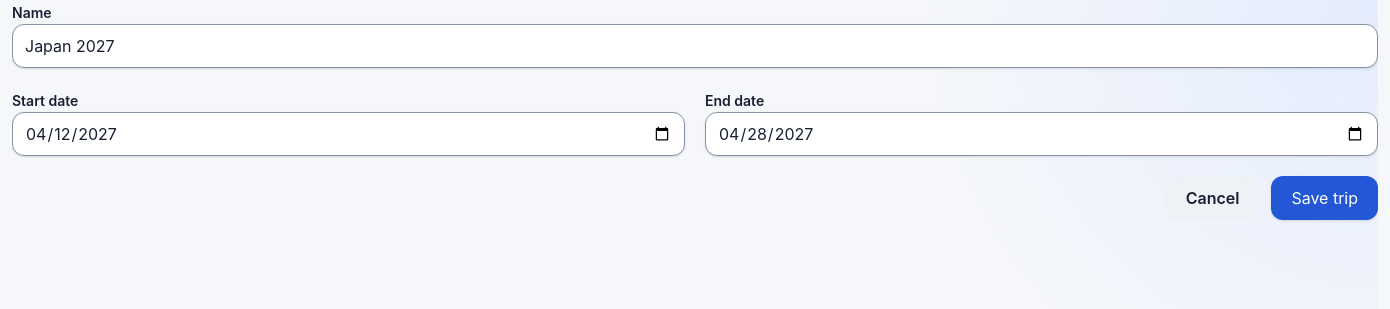
Test: EditTripScreen › shows a safe update failure
The image size is (1390, 309).
Check: the field labelled "Name" is shown, box [12,24,1378,68]
Click the button "Save trip" at (1325, 198), box [1271,176,1378,220]
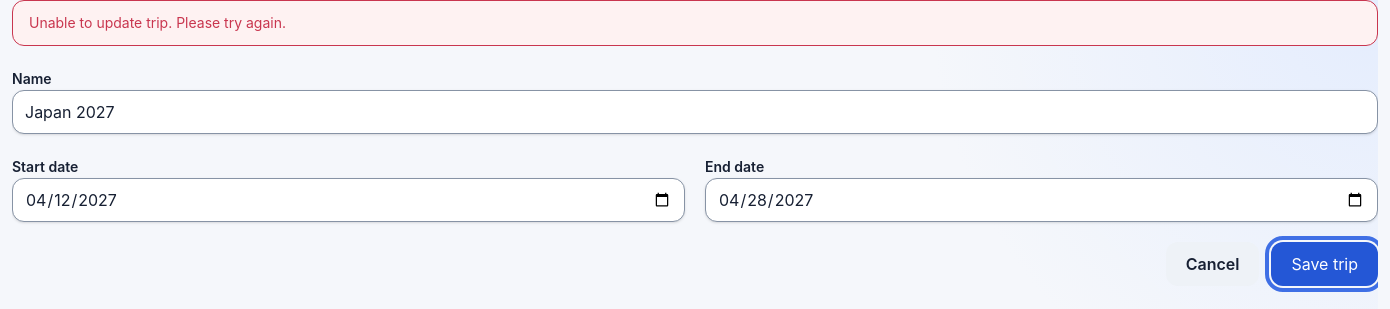
Check: the message reads "Unable to update trip. Please try again.", box [29,14,286,31]
